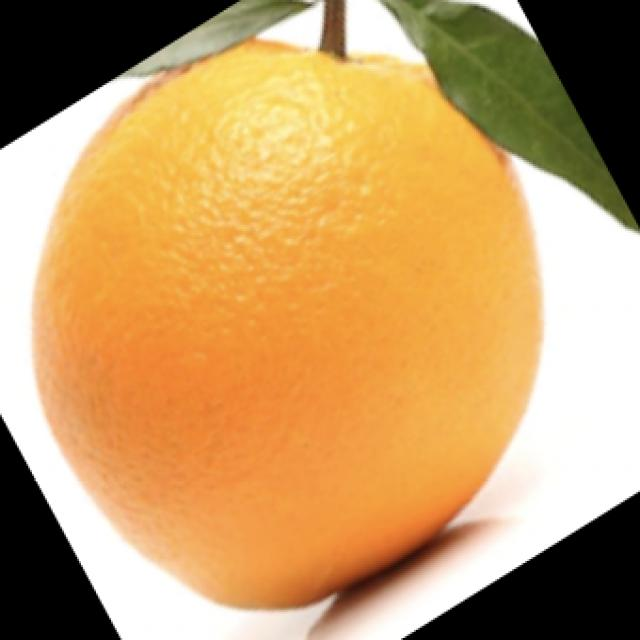fresh: (7, 20, 594, 621)
